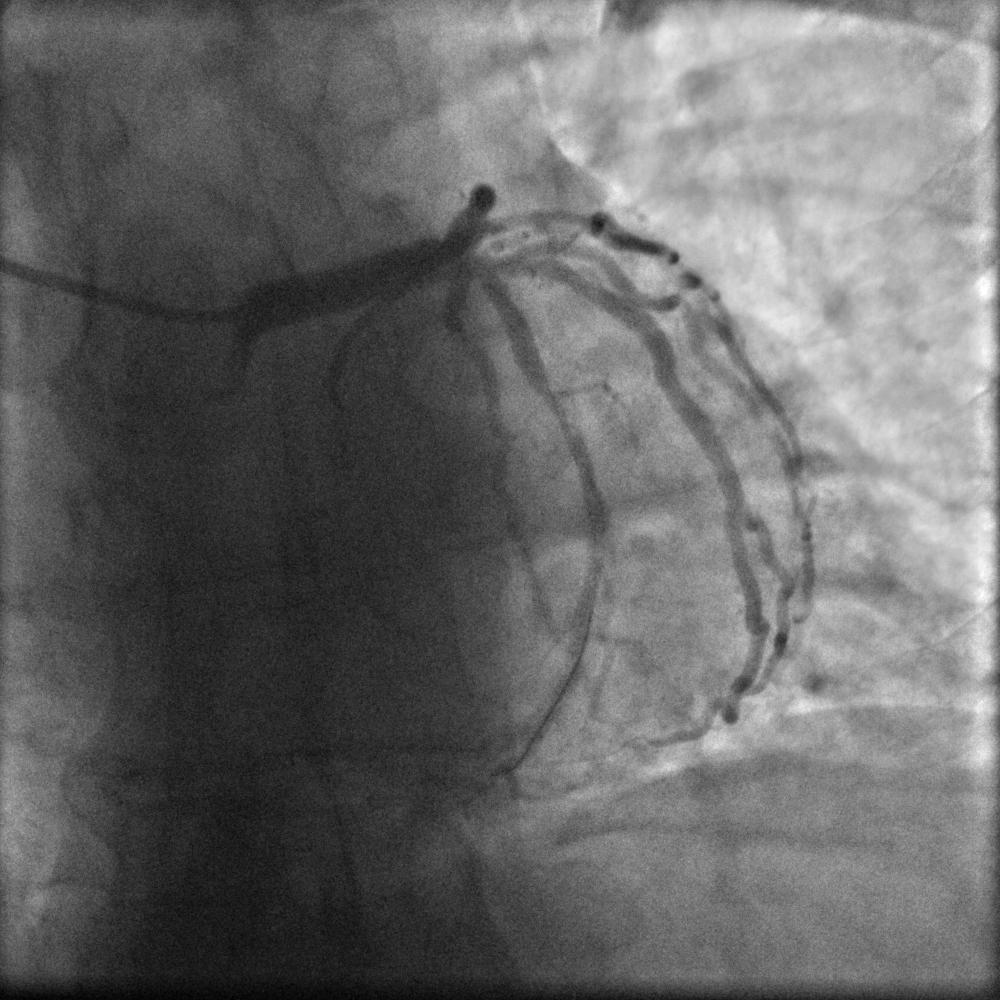Stenosis: (543, 384, 583, 463)
